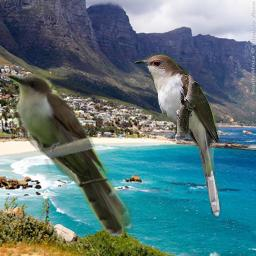Cuckoo: (5, 71, 133, 238), (132, 53, 221, 218)
